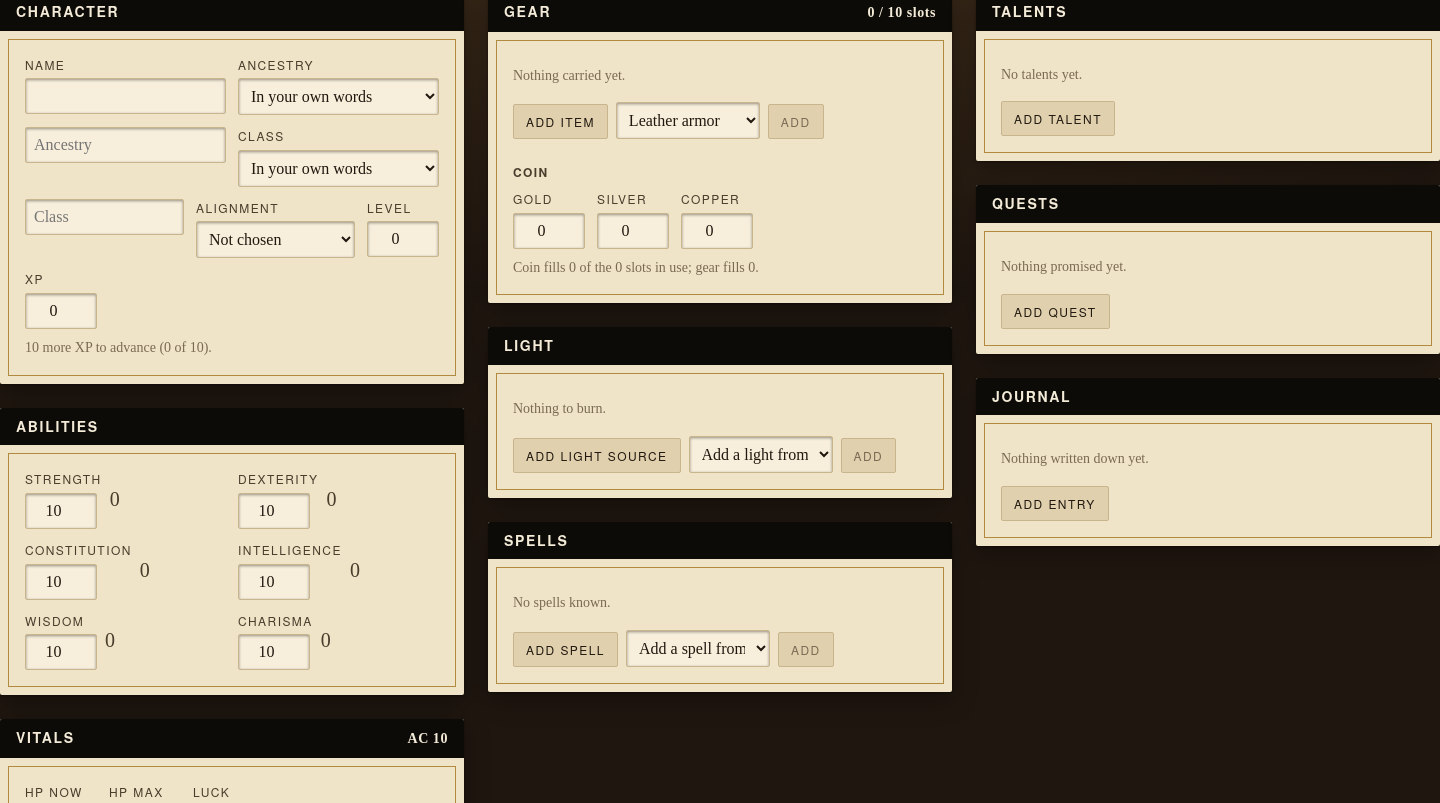
Test: a row added from a pack › changes AC when armour is equipped, which is what a pack was needed for
The image size is (1440, 803).
Expected: the element that starts with "Vitals" shows "AC 10", [408,731,448,746]
Select "Leather armor" in the dropdown below "Nothing carried yet." at (688, 121), box [616,102,760,139]
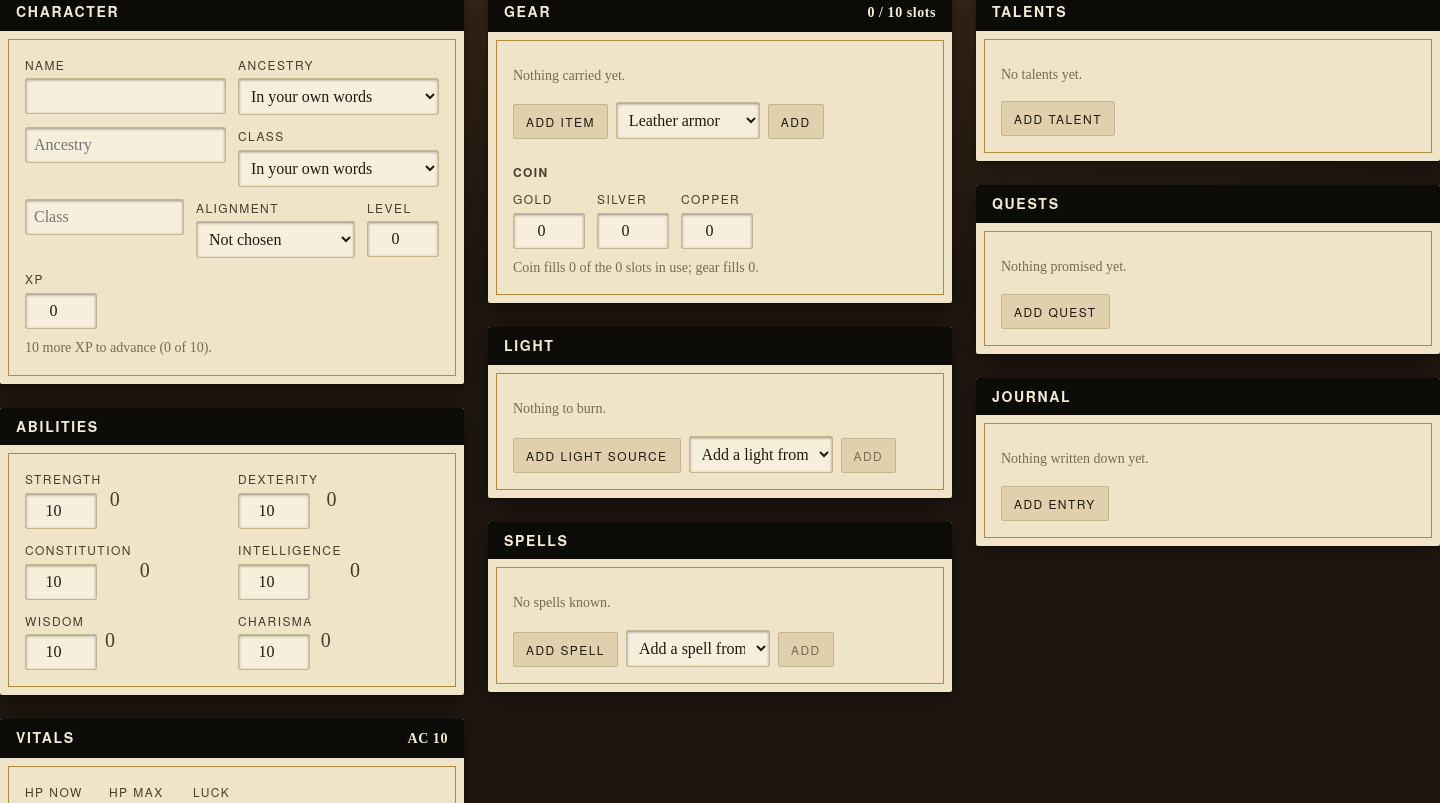
Click the button "Add" below "Nothing carried yet." at (796, 122), box [768,104,824,139]
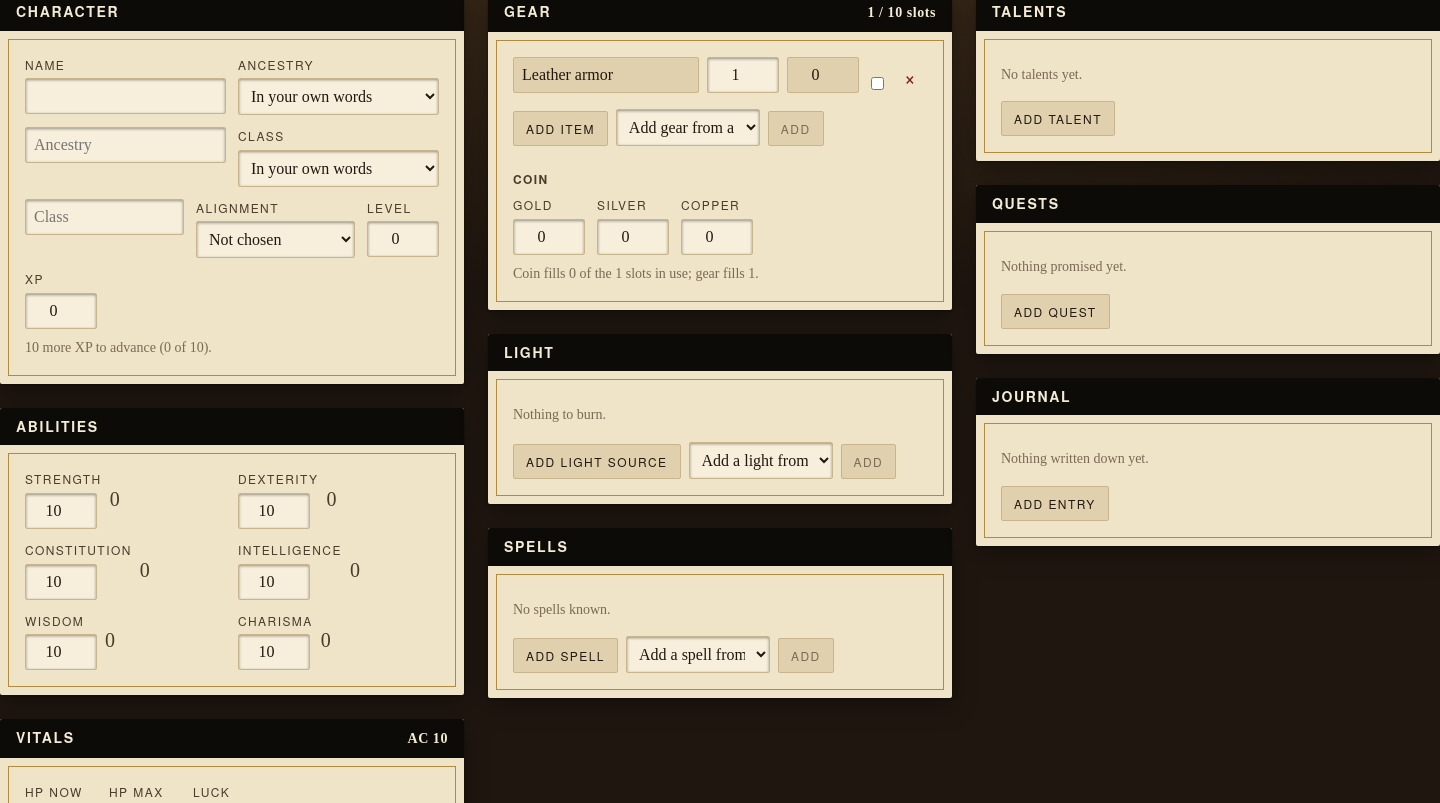
Click the checkbox with class "field__check" at (877, 83), box [871,77,884,90]
(page scrolled)
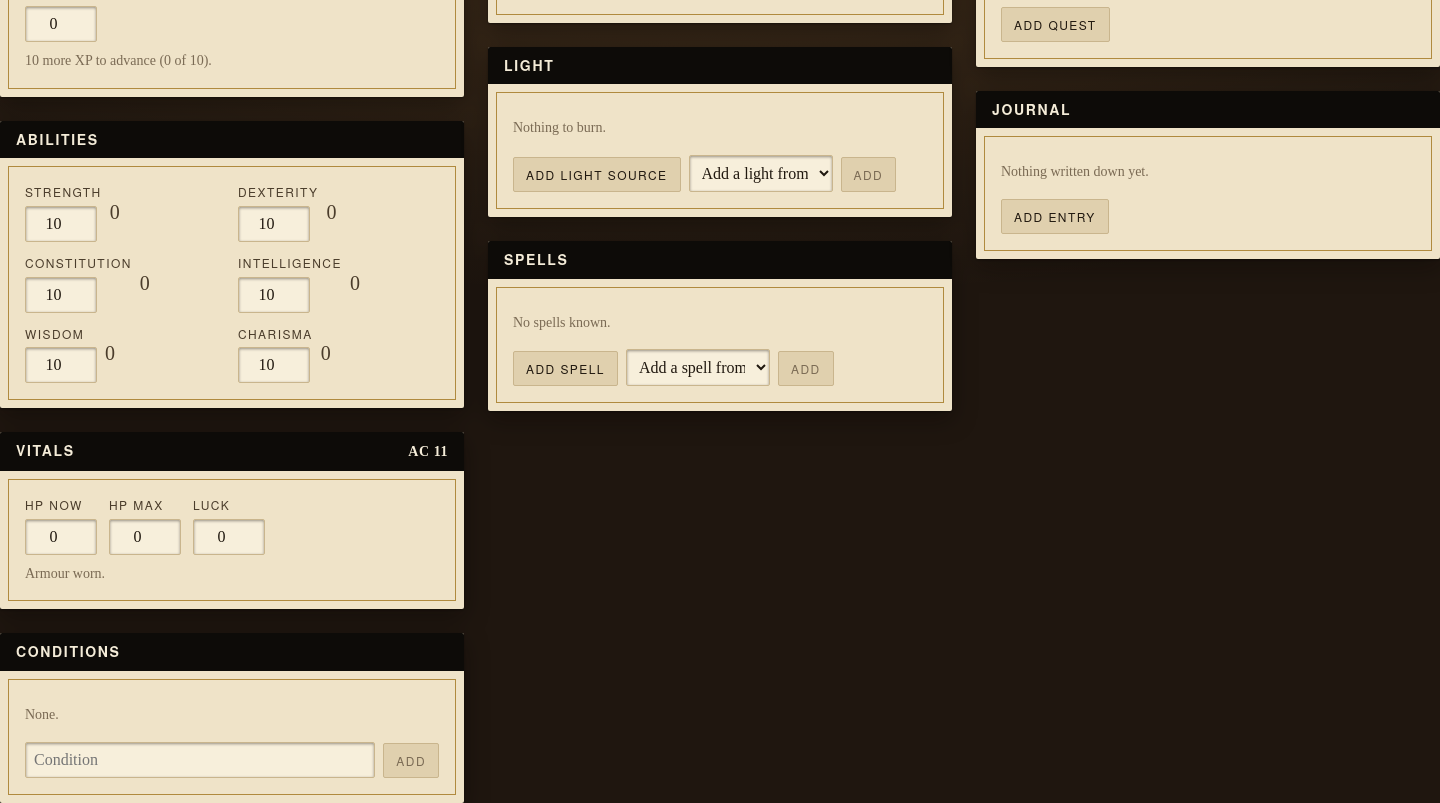
Expected: the element showing "Vitals AC 11 HP now HP max Luck Armour worn." is shown, [0,432,464,609]
